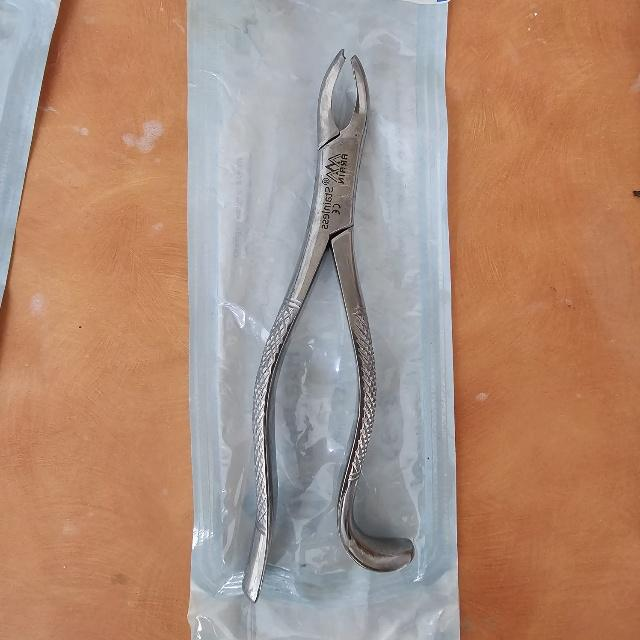forceps: (245, 53, 413, 588)
